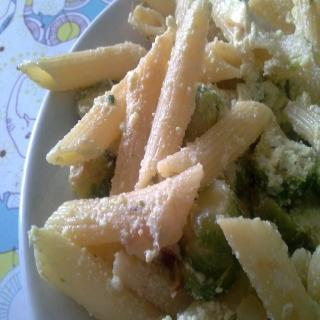Pasta: (18, 0, 320, 320)
